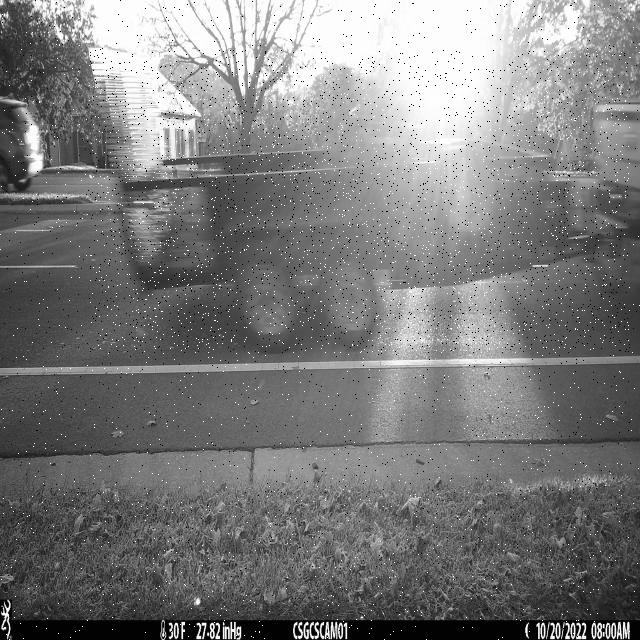Box Truck: (90, 50, 630, 353)
